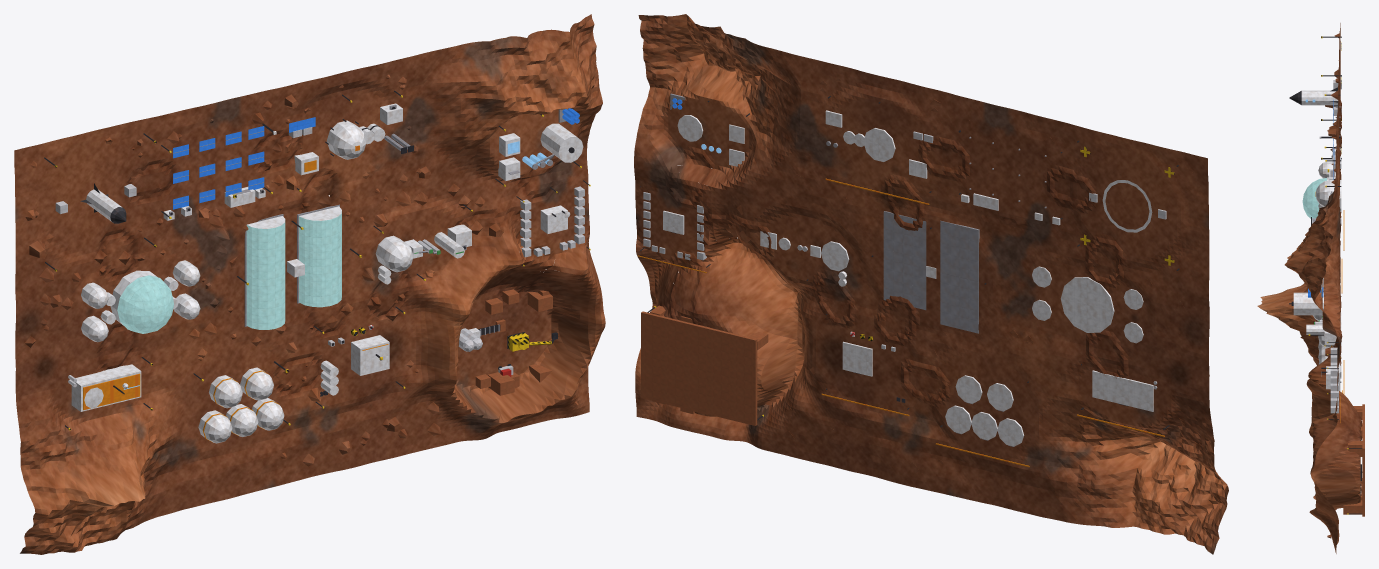
Rendered from mars_base_colony_fixed (2).glb.
3 renders of one model, left to right at view 1: azimuth 30°, elevation 25°; view 2: azimuth 150°, elevation 25°; view 3: azimuth 270°, elevation 25°, orthographic. The views are drawn at different scales.
Parts seen in each view (by area): view 1: object 1, greenhouse, central_hub, habitat, mining, power, solar, water, research_lab, oxygen, battery, storage_depot (+1 smaller); view 2: object 1, mining, greenhouse, central_hub, habitat, power, research_lab, battery, water, oxygen, storage_depot, rocket; view 3: object 1, rocket, mining, battery, central_hub, water, power, oxygen, habitat, solar.
Part boxes in pixels (x1,y1,x2,y2): object 1: (14, 14, 605, 554); greenhouse: (237, 204, 361, 329); central_hub: (81, 260, 200, 342); habitat: (193, 361, 290, 443); mining: (458, 289, 557, 395); power: (288, 90, 413, 191); solar: (161, 124, 276, 220); water: (495, 108, 583, 186); research_lab: (65, 357, 152, 430); oxygen: (373, 204, 472, 284); battery: (516, 180, 590, 266); storage_depot: (314, 306, 405, 408); object 1: (634, 14, 1228, 554); mining: (641, 305, 768, 425); greenhouse: (871, 211, 986, 333); central_hub: (1032, 266, 1143, 343); habitat: (935, 375, 1029, 467); power: (825, 96, 933, 204); research_lab: (1077, 364, 1169, 436); battery: (637, 186, 710, 272); water: (670, 93, 749, 166); oxygen: (760, 231, 849, 286); storage_depot: (821, 314, 909, 416); rocket: (1077, 140, 1179, 270); object 1: (1257, 23, 1362, 553); rocket: (1289, 36, 1341, 159); mining: (1343, 404, 1364, 516); battery: (1321, 342, 1340, 423); central_hub: (1302, 161, 1332, 219); water: (1289, 278, 1323, 335); power: (1311, 148, 1344, 250); oxygen: (1306, 315, 1336, 346); habitat: (1318, 296, 1344, 394); solar: (1319, 94, 1340, 179).
Size of the model in its own units: 18 by 12 by 3.69.
Materials: 18 (18 with a texture image).
